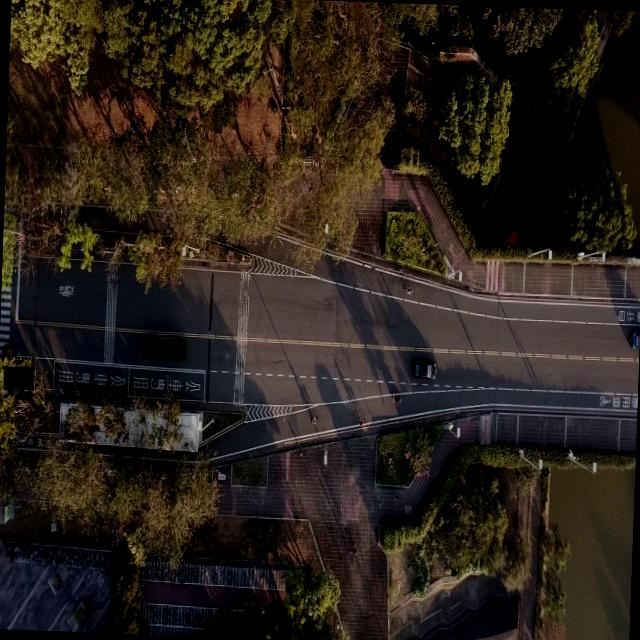car: (410, 360, 438, 381)
